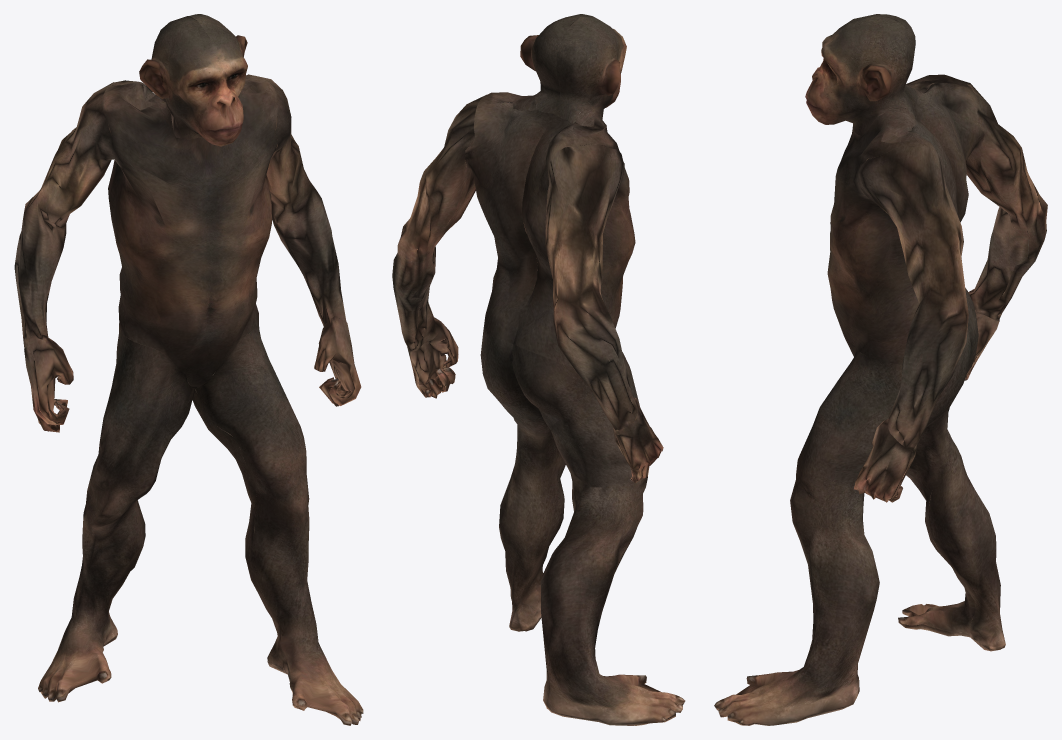
Rendered from australopith.glb.
3 renders of one model, left to right at view 1: azimuth 30°, elevation 25°; view 2: azimuth 150°, elevation 25°; view 3: azimuth 270°, elevation 25°, orthographic. The views are drawn at different scales.
Visible parts, largest first — view 1: australopith; view 2: australopith; view 3: australopith.
Part boxes in pixels (x1,y1,x2,y2): australopith: (14, 14, 363, 725); australopith: (392, 14, 685, 725); australopith: (714, 14, 1047, 725).
Size of the model in its own units: 0.5896 by 1.3 by 0.5932.
Materials: 1 (1 with a texture image).
